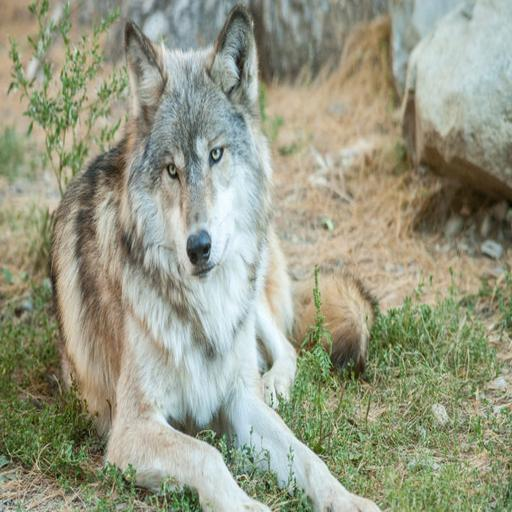Wolf: (43, 0, 386, 508)
